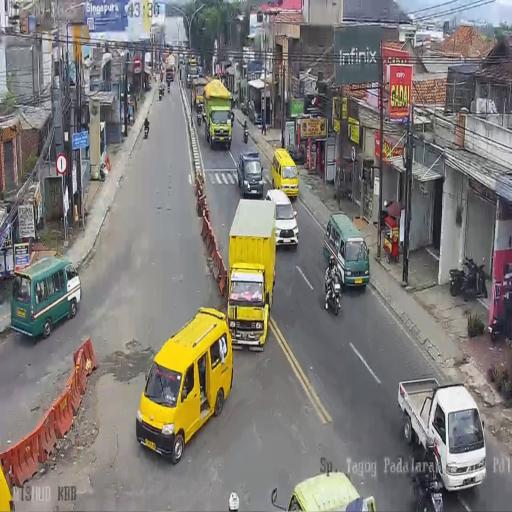3: (397, 375, 486, 494), (228, 199, 276, 311), (202, 78, 232, 149), (192, 78, 206, 118), (186, 58, 198, 86), (165, 56, 175, 88)
car: (134, 308, 233, 460), (270, 146, 298, 201), (236, 150, 264, 198), (197, 66, 203, 76)
motorcycle: (10, 252, 81, 339)
truck: (450, 255, 487, 302), (490, 284, 512, 342), (324, 266, 341, 316), (158, 83, 164, 100), (144, 121, 149, 138), (243, 128, 248, 144), (167, 81, 170, 93)
